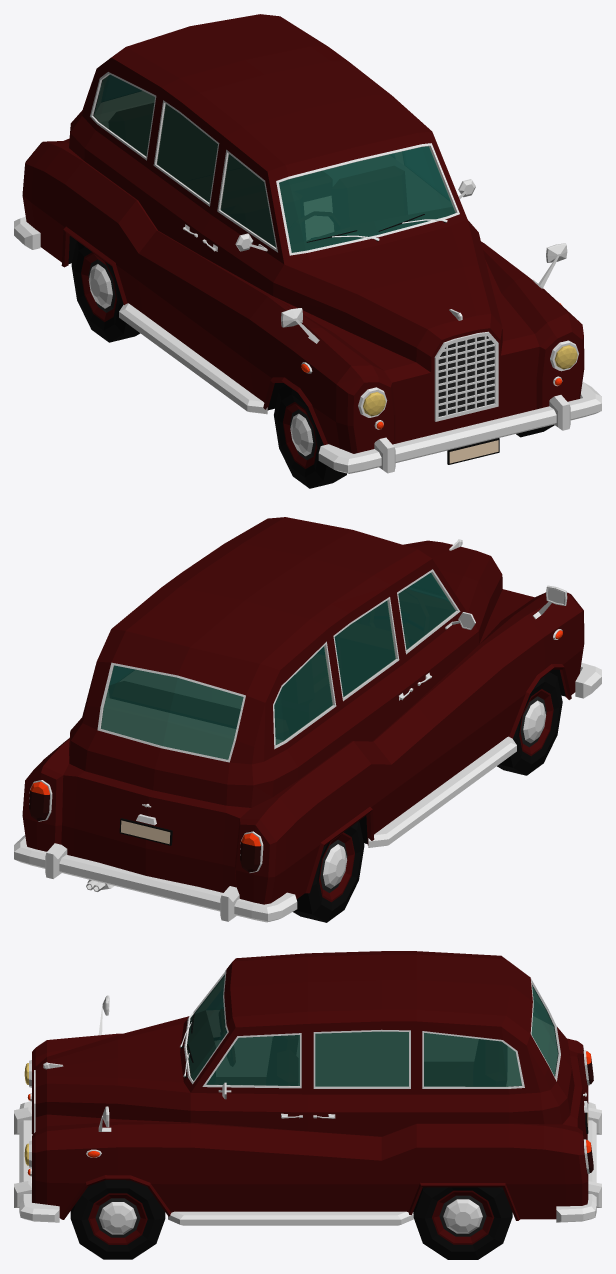
The model's file is Sedan_10.FBX.
3 views of the same model, one above another, from view 1: azimuth 30°, elevation 25°; view 2: azimuth 150°, elevation 25°; view 3: azimuth 270°, elevation 25° (orthographic). The views are drawn at different scales.
Visible parts, largest first — view 1: Sedan_10, interior, seat_b, bumper_f, grill, wheel_f_r, wheel_b_r, seat_f_l, seat_f_r, headLights, licensePlate_f, lights; view 2: Sedan_10, interior, bumper_b, wheel_b_r, wheel_f_r, seat_f_r, seat_b, seat_f_l, tailLights, licensePlate_b, bumper_f; view 3: Sedan_10, interior, wheel_b_l, wheel_f_l, seat_b, bumper_f, bumper_b, seat_f_r, seat_f_l, lights.
Part boxes in pixels (x1,y1,x2,y2): Sedan_10: [22, 14, 584, 453]; interior: [94, 75, 455, 252]; seat_b: [109, 103, 331, 214]; bumper_f: [318, 382, 601, 473]; grill: [434, 331, 498, 421]; wheel_f_r: [274, 385, 346, 488]; wheel_b_r: [71, 241, 140, 342]; seat_f_l: [332, 166, 407, 228]; seat_f_r: [230, 191, 305, 245]; headLights: [363, 345, 577, 416]; licensePlate_f: [447, 438, 499, 464]; lights: [301, 303, 578, 429]; Sedan_10: [22, 517, 584, 904]; interior: [101, 573, 455, 759]; bumper_b: [14, 835, 297, 922]; wheel_b_r: [293, 821, 364, 922]; wheel_f_r: [497, 672, 562, 775]; seat_f_r: [337, 623, 409, 695]; seat_b: [109, 681, 288, 739]; seat_f_l: [275, 654, 338, 734]; tailLights: [29, 790, 260, 872]; licensePlate_b: [119, 818, 172, 845]; bumper_f: [575, 662, 601, 698]; Sedan_10: [32, 951, 588, 1225]; interior: [187, 976, 557, 1086]; wheel_b_l: [413, 1187, 512, 1259]; wheel_f_l: [70, 1180, 165, 1259]; seat_b: [424, 1039, 506, 1085]; bumper_f: [14, 1101, 59, 1222]; bumper_b: [556, 1102, 601, 1222]; seat_f_r: [215, 1035, 297, 1084]; seat_f_l: [272, 1050, 297, 1085]; lights: [29, 1050, 589, 1176].
Bounding box in the file's own units: 23.9 × 49.45 × 21.38.
